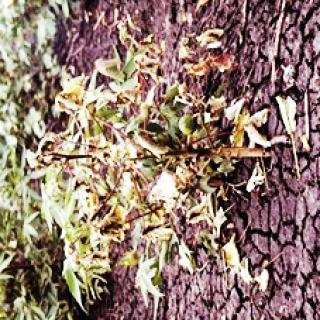wilt: (131, 46, 239, 86)
